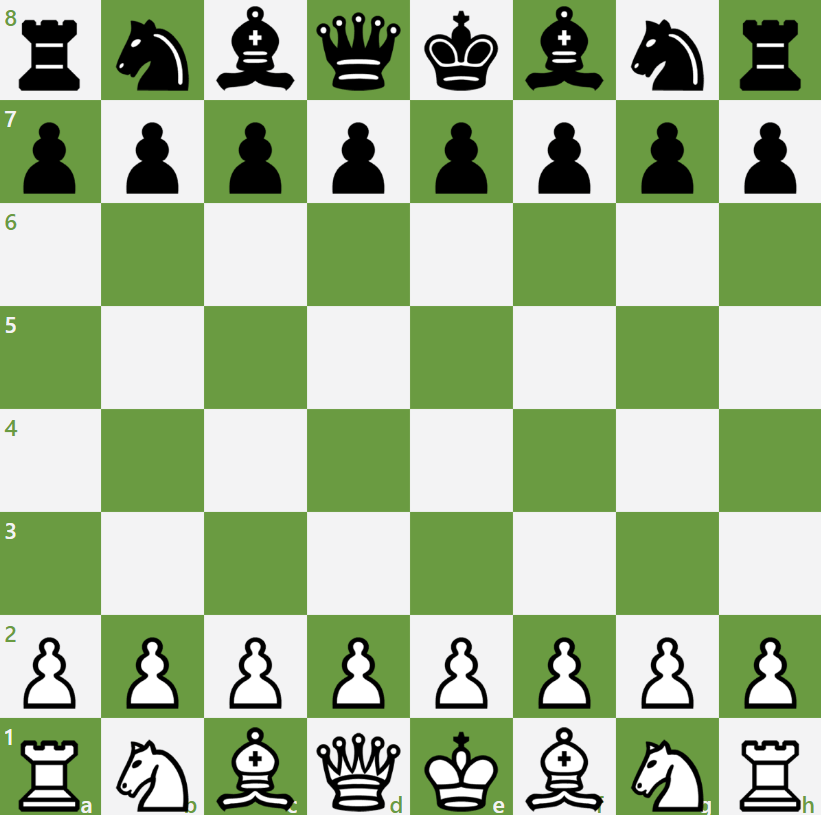black_bishop: (512, 1, 618, 100), (204, 1, 308, 98)
black_king: (412, 1, 514, 99)
black_knight: (615, 1, 719, 99), (100, 2, 203, 99)
black_pawn: (201, 101, 308, 201), (615, 102, 720, 203), (100, 102, 203, 202), (412, 102, 514, 202), (1, 100, 100, 202), (516, 102, 616, 202), (312, 102, 412, 201), (720, 104, 820, 202)
black_queen: (308, 1, 412, 99)
black_rook: (720, 1, 820, 101), (1, 1, 100, 99)
white_bishop: (202, 716, 307, 815), (514, 718, 616, 815)
white_king: (411, 719, 513, 815)
white_knight: (612, 716, 720, 813), (104, 721, 203, 815)
white_pawn: (613, 614, 719, 717), (201, 616, 310, 716), (412, 616, 513, 720), (102, 616, 204, 718), (308, 616, 412, 716), (1, 616, 103, 717), (718, 614, 819, 716), (512, 616, 613, 714)
white_queen: (309, 717, 411, 813)
white_rook: (720, 716, 821, 815), (1, 716, 100, 815)
